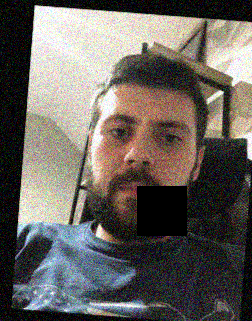without_mask: (86, 113, 199, 230)
